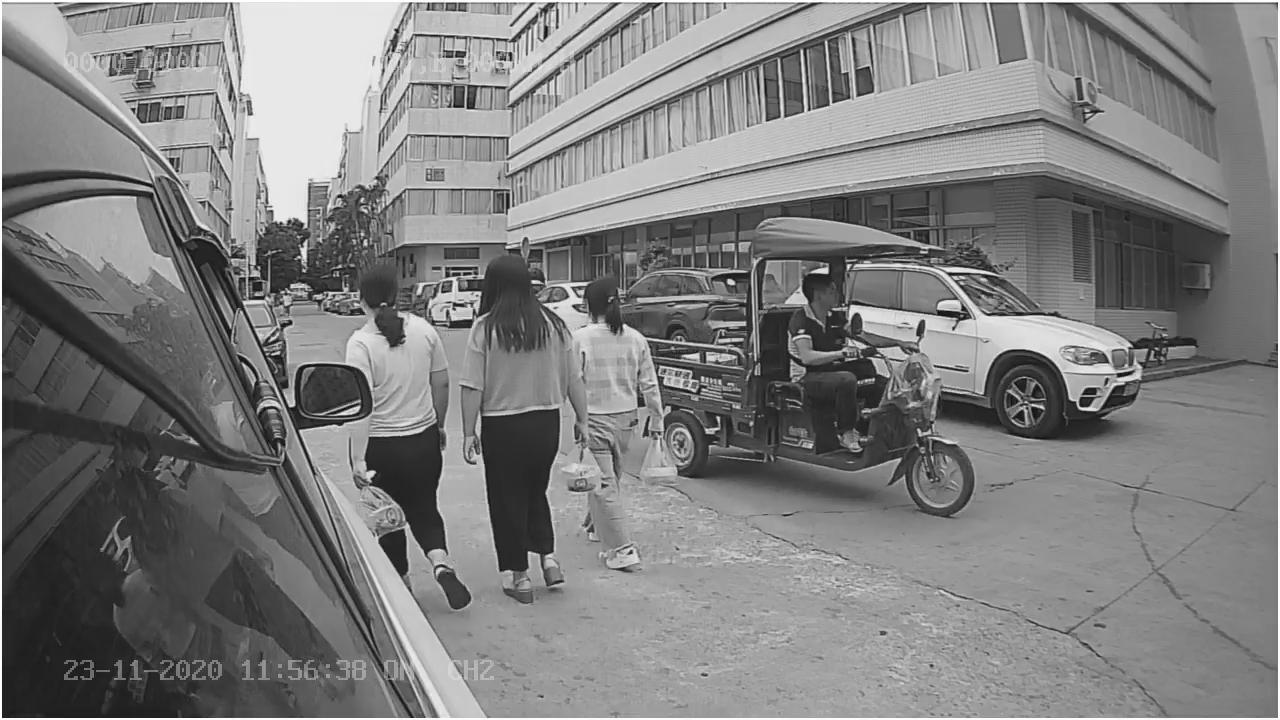person: (346, 259, 478, 613), (454, 251, 581, 610), (570, 276, 686, 588), (781, 270, 867, 367)
